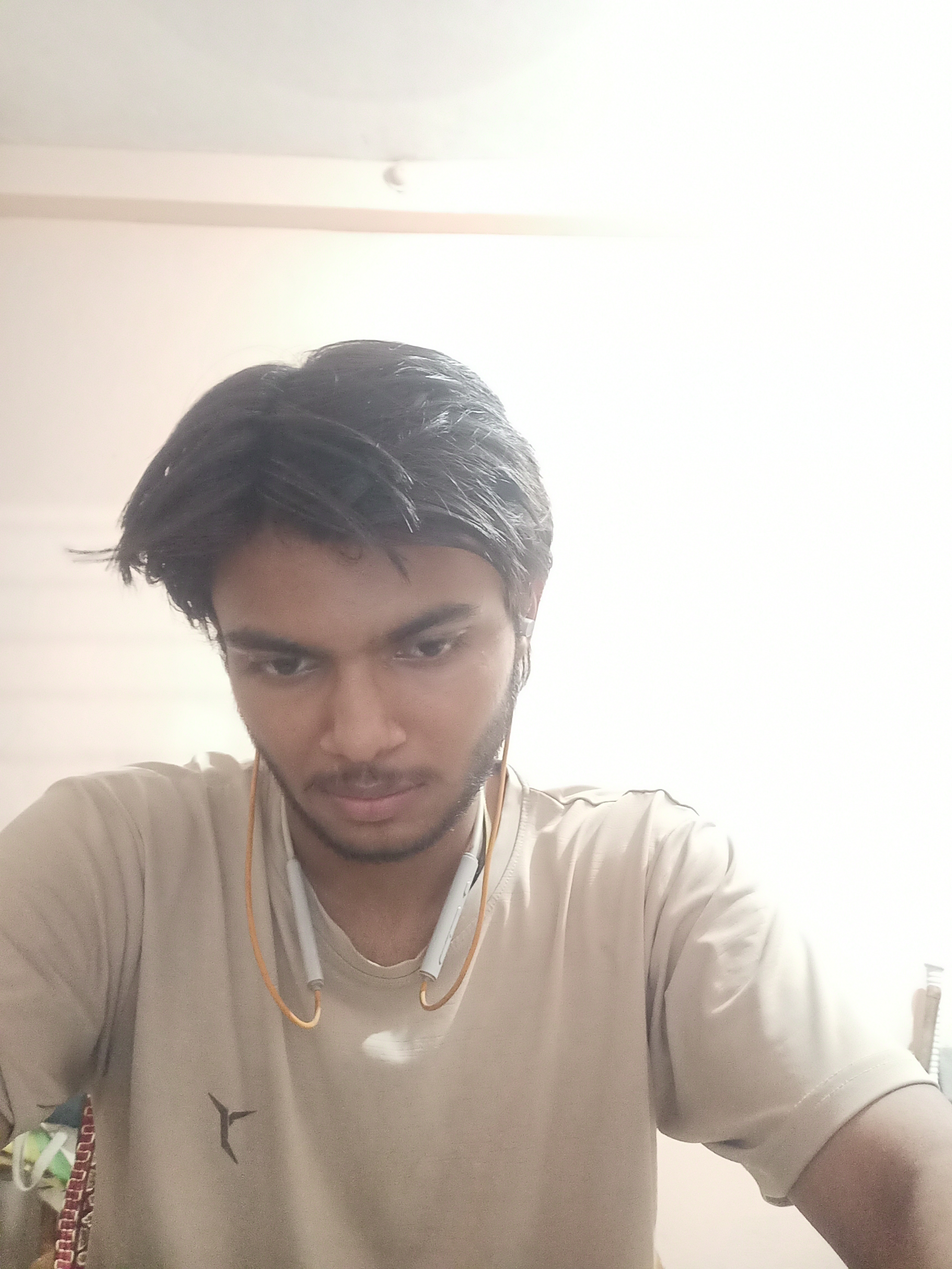distracted: (141, 308, 648, 962)
